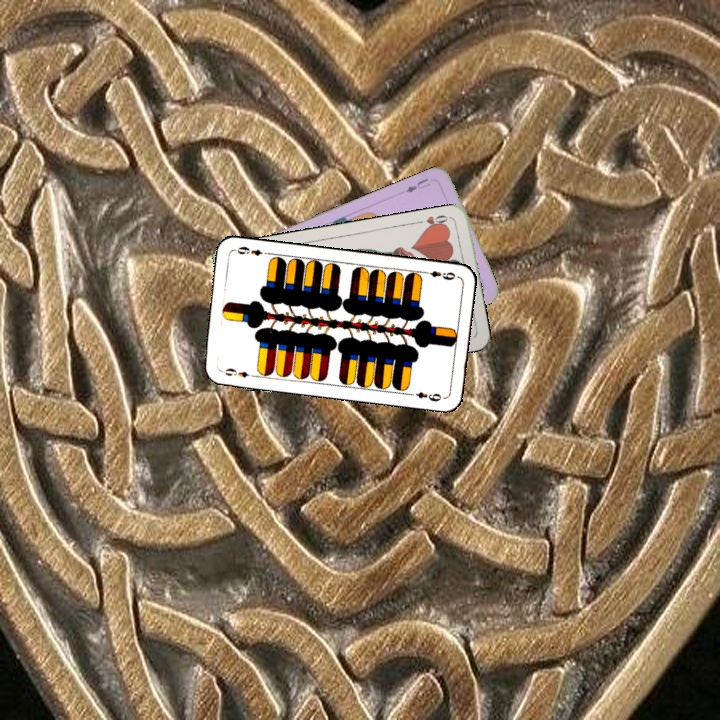E9: (419, 266, 458, 283), (217, 364, 258, 380)
EU: (401, 174, 433, 195)
HO: (413, 211, 453, 232)
